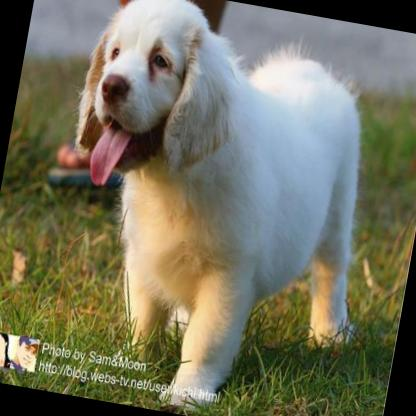clumber: (26, 0, 397, 416)
